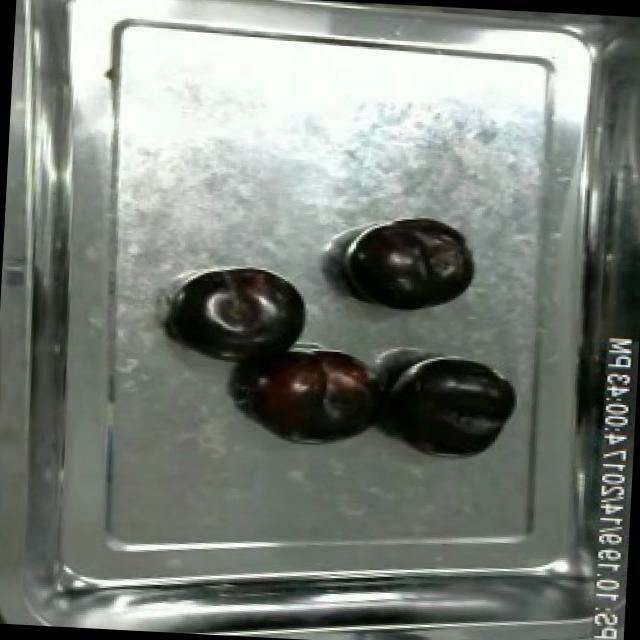Fruit: (239, 342, 393, 454), (168, 264, 312, 378), (384, 354, 522, 464), (341, 213, 482, 318)
